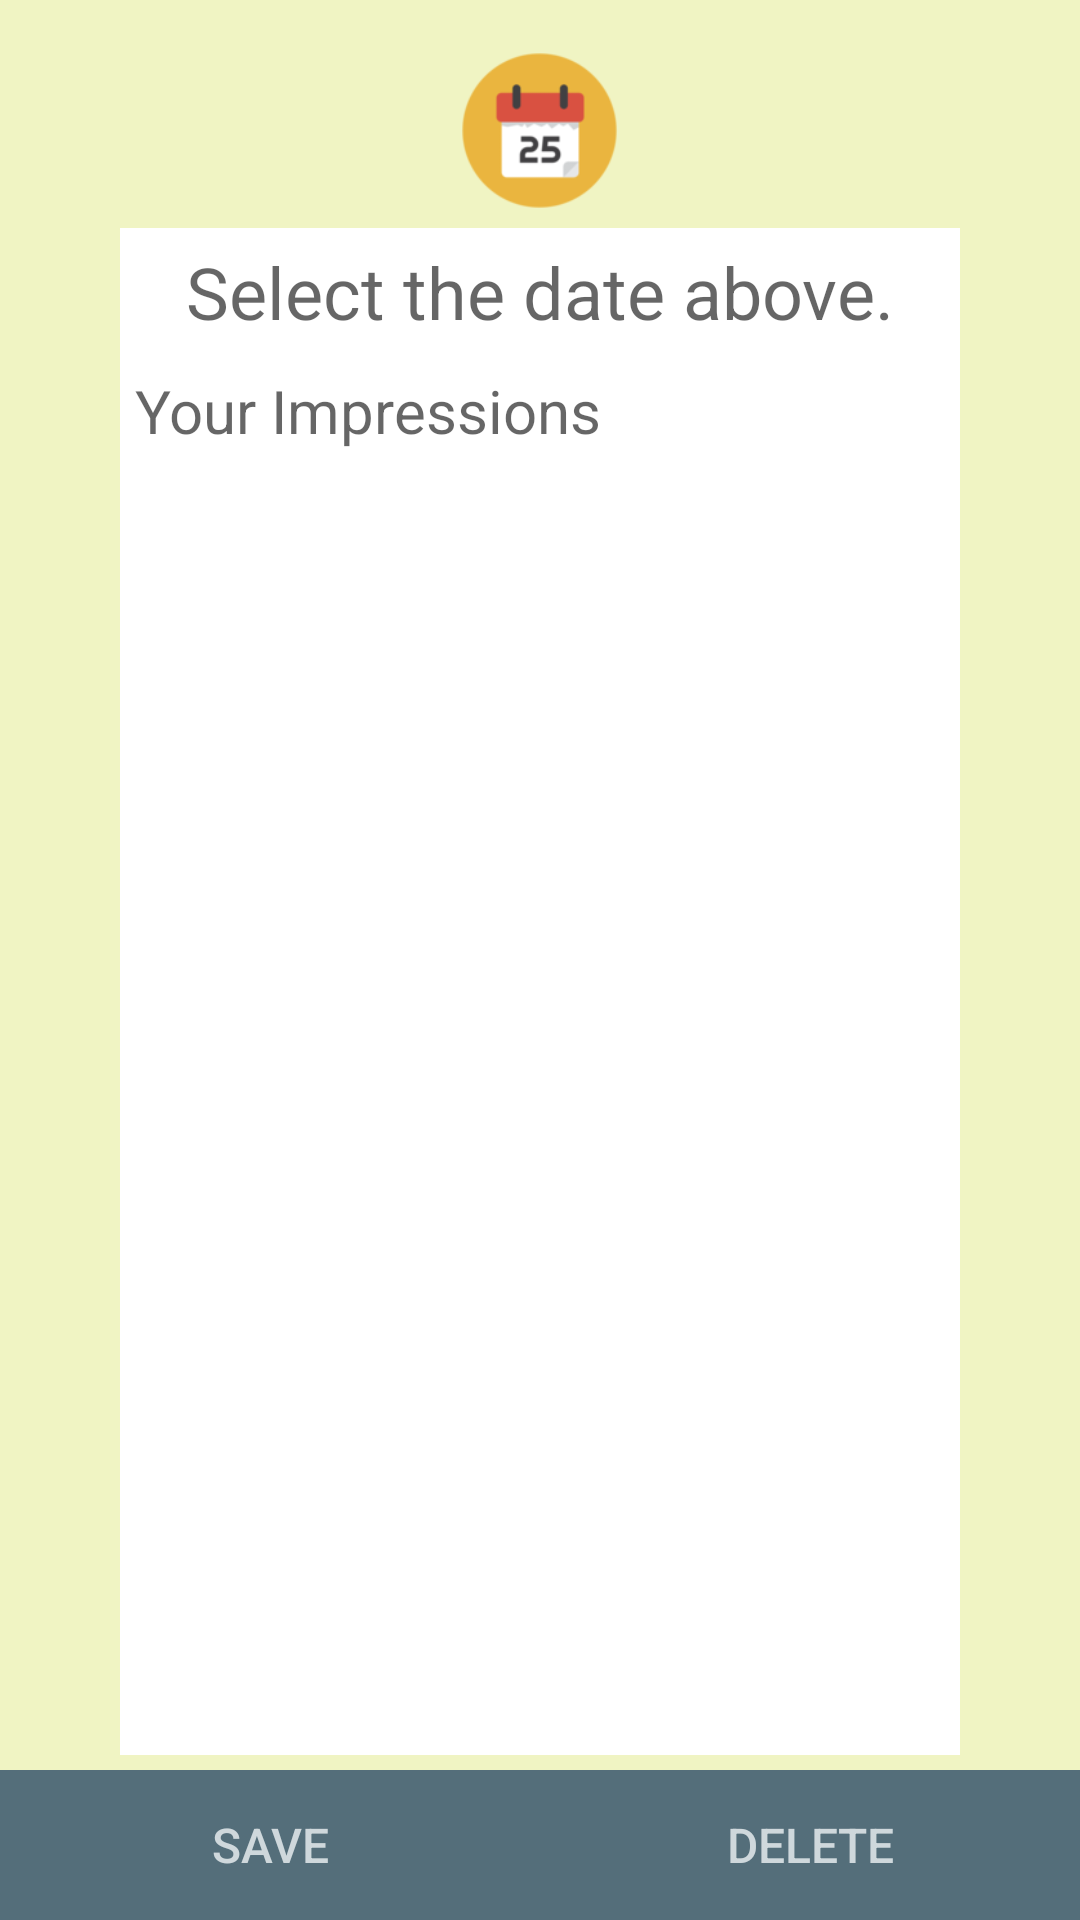

Locate icon controls on the screen. Image size 1080px x 1920px, boxes as [x1, y1, x2, y2].
calendar resized: [462, 53, 617, 208]
